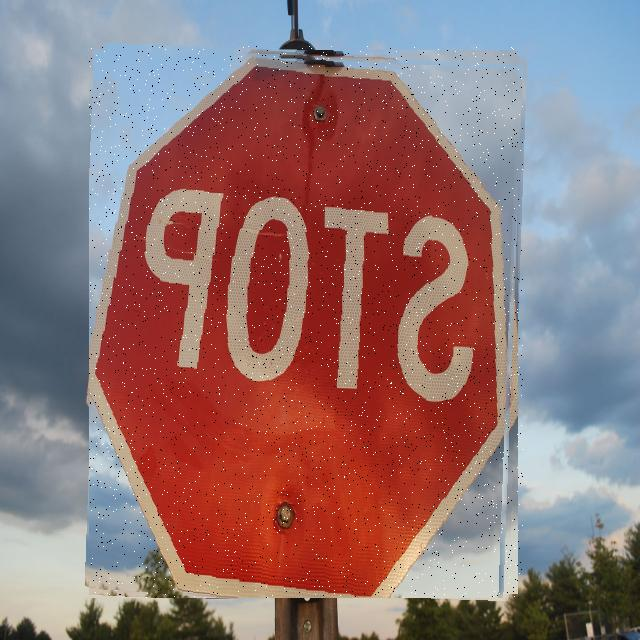stop: (89, 46, 523, 598)
